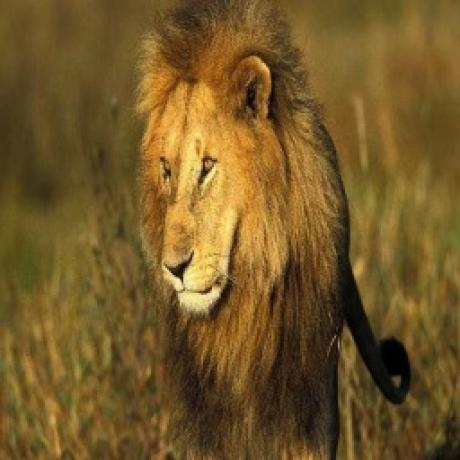Lion: (130, 0, 416, 460)
